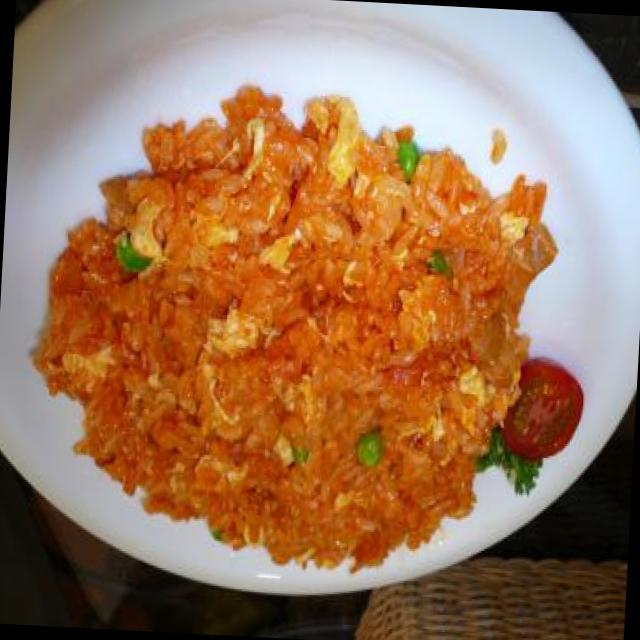Rice: (16, 110, 566, 596)
